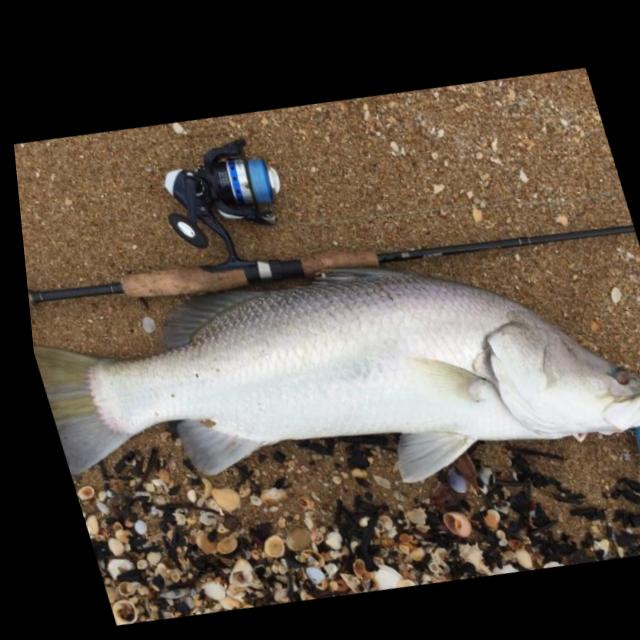Seabass: (17, 176, 640, 577)
